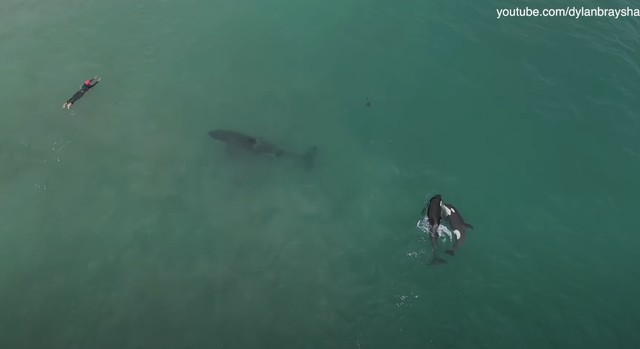whale: (200, 113, 327, 182), (406, 184, 457, 269), (441, 199, 475, 263)
